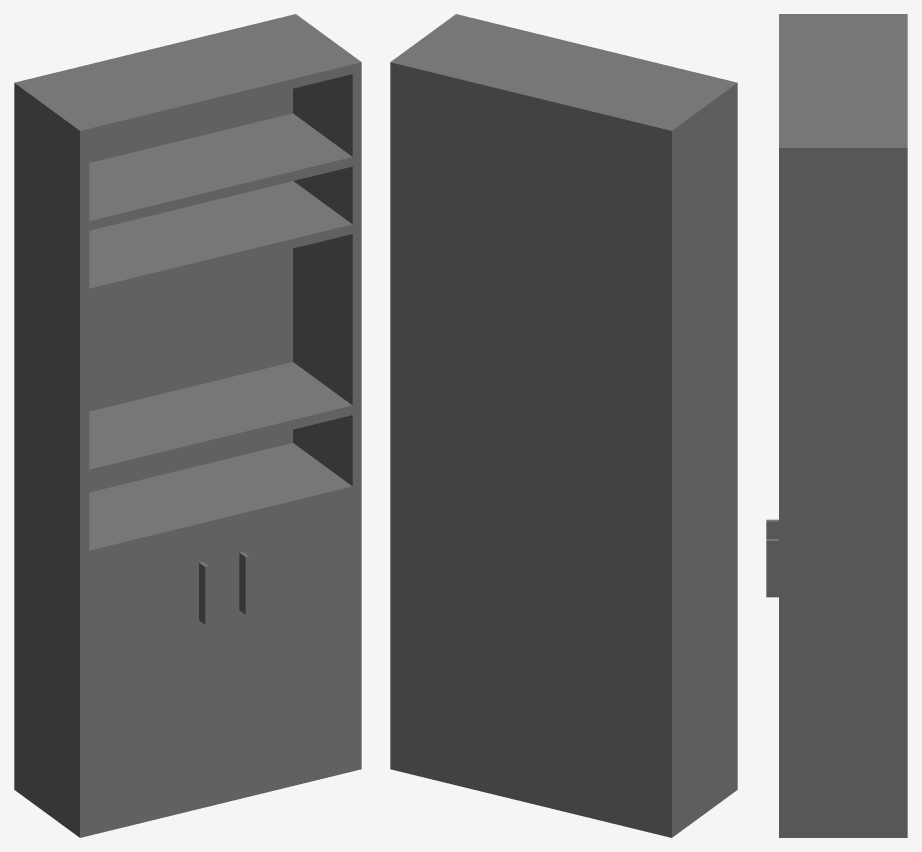
File: left_shelves.min.dae
3 renders of one model, left to right at view 1: azimuth 30°, elevation 25°; view 2: azimuth 150°, elevation 25°; view 3: azimuth 270°, elevation 25°, orthographic. The views are drawn at different scales.
Parts seen in each view (by area): view 1: SketchUp (×6); view 2: SketchUp (×2); view 3: SketchUp (×2).
Boxes of the visible parts, bbox=[...] form: SketchUp (×6): bbox=[14, 14, 361, 837]; SketchUp (×2): bbox=[390, 14, 737, 837]; SketchUp (×2): bbox=[766, 14, 907, 837].
Bounding box in the file's own units: 30.12 × 13.39 × 72.24.
2 materials, 1 textured.
